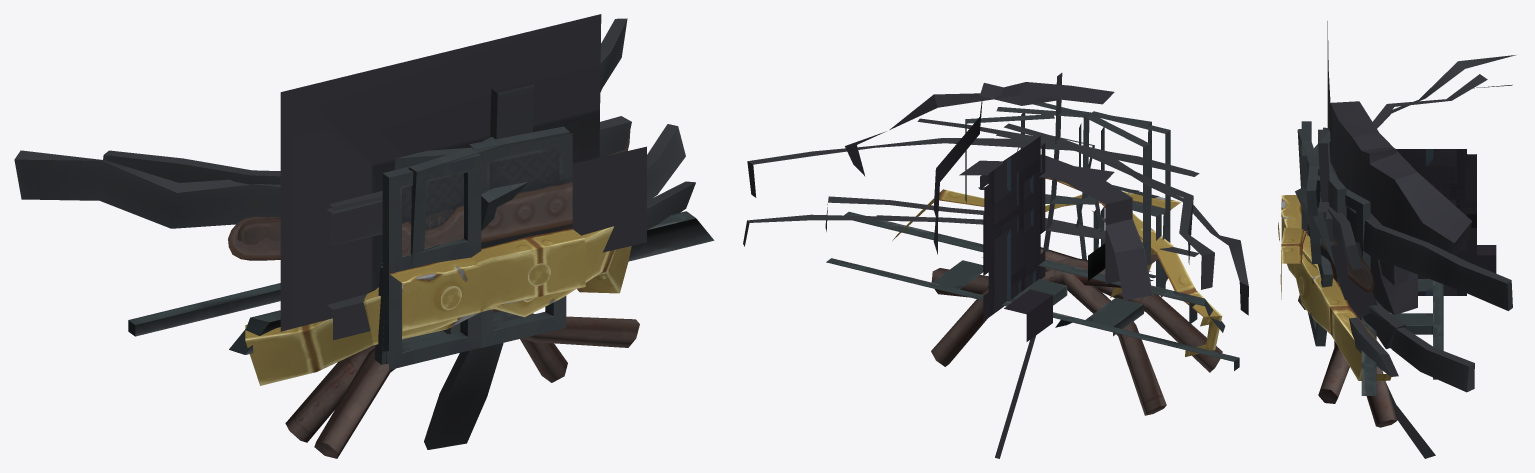
The model's file is edge_busted_set.glb.
3 views of the same model, side by side, from view 1: azimuth 30°, elevation 25°; view 2: azimuth 150°, elevation 25°; view 3: azimuth 270°, elevation 25° (orthographic). The views are drawn at different scales.
Visible parts, largest first — view 1: rsrc.world.tileset.prize_vault.edge_rail.edge_busted_set-Var (×30); view 2: rsrc.world.tileset.prize_vault.edge_rail.edge_busted_set-Var (×31); view 3: rsrc.world.tileset.prize_vault.edge_rail.edge_busted_set-Var (×30).
Part boxes in pixels (<box>): rsrc.world.tileset.prize_vault.edge_rail.edge_busted_set-Var (×30): <box>14,14,714,458</box>; rsrc.world.tileset.prize_vault.edge_rail.edge_busted_set-Var (×31): <box>743,73,1248,458</box>; rsrc.world.tileset.prize_vault.edge_rail.edge_busted_set-Var (×30): <box>1280,21,1515,458</box>.
Bounding box in the file's own units: 6.98 × 4.79 × 3.
Materials: 9 (9 with a texture image).
